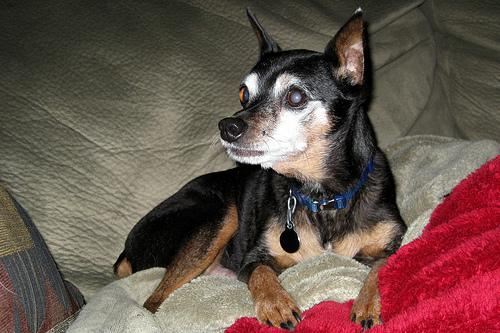dog-miniature_pinscher: (216, 5, 363, 162)
